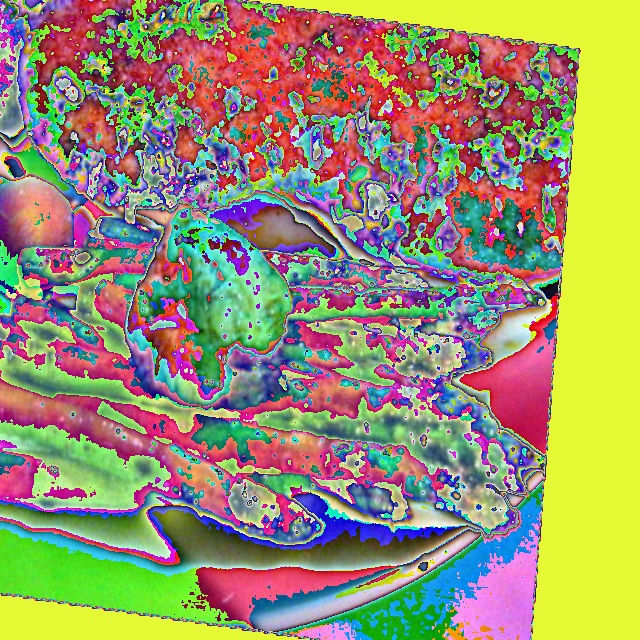background: (0, 0, 579, 545)
